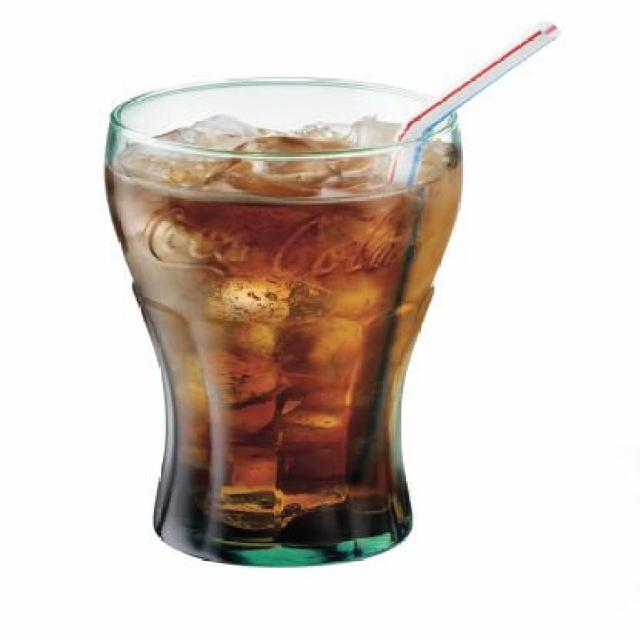Coke: (100, 76, 476, 579)
